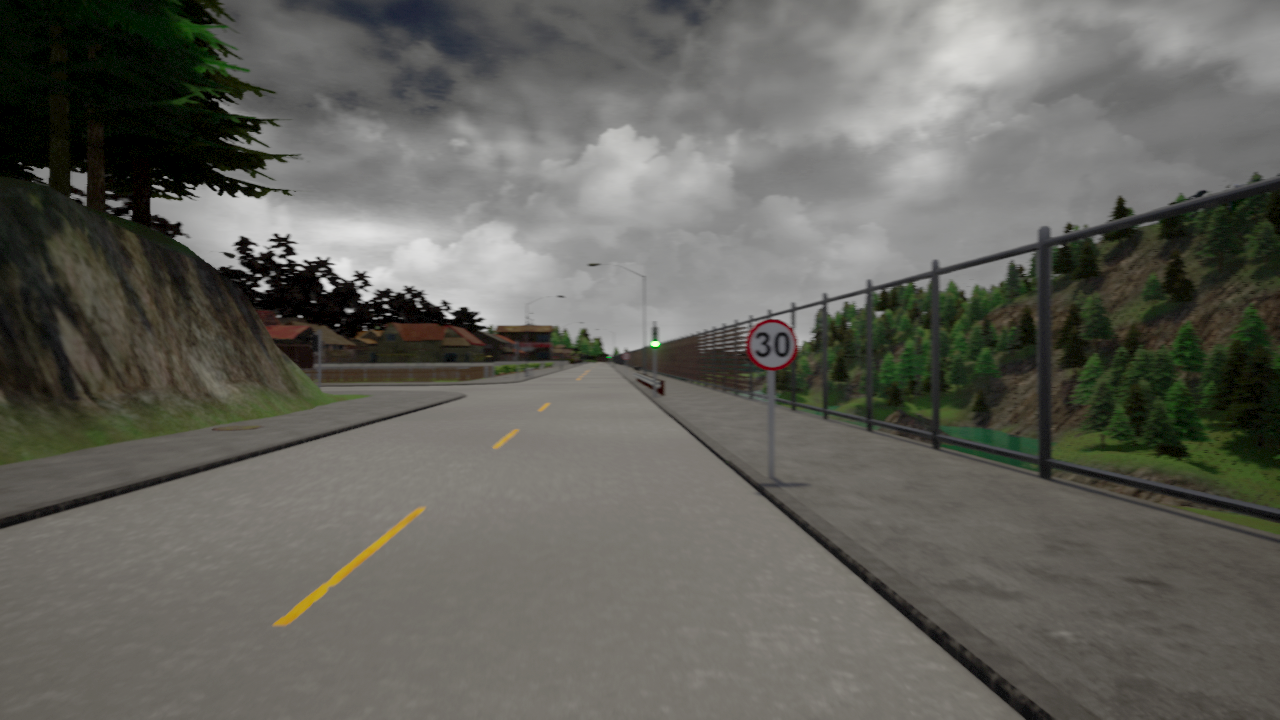green: (649, 325, 661, 348)
